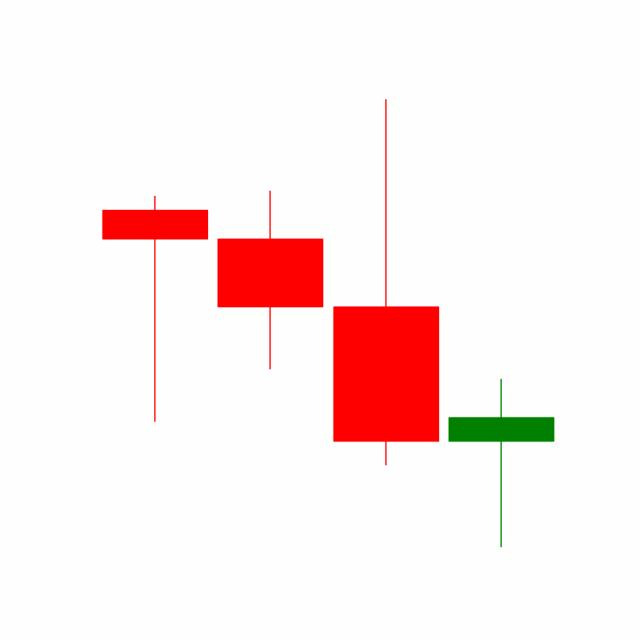Spinning Top: (443, 376, 559, 549)
